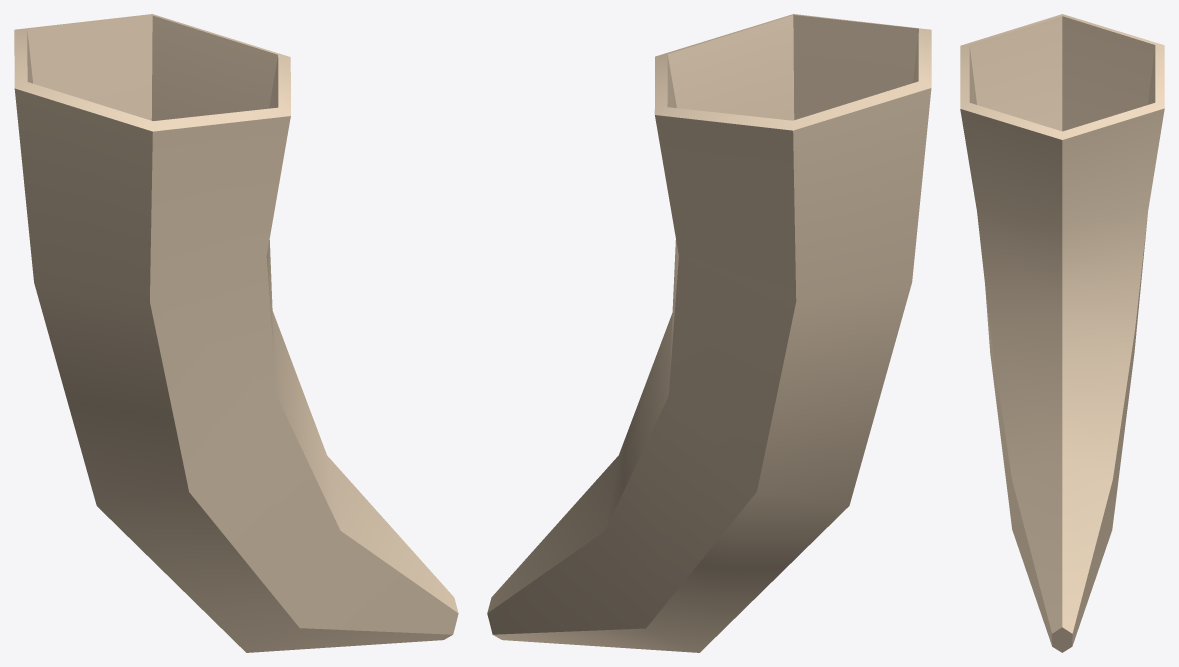
Rendered from SM_horn_drinking_01.fbx.
The picture shows the model from 3 angles, left to right: view 1: azimuth 30°, elevation 25°; view 2: azimuth 150°, elevation 25°; view 3: azimuth 270°, elevation 25°; orthographic projection. The views are drawn at different scales.
Parts seen in each view (by area): view 1: Object415; view 2: Object415; view 3: Object415.
Part boxes in pixels (x1,y1,x2,y2): Object415: (14, 14, 458, 652); Object415: (487, 14, 931, 652); Object415: (960, 14, 1164, 652).
Size of the model in its own units: 8.81 by 12.63 by 4.81.
